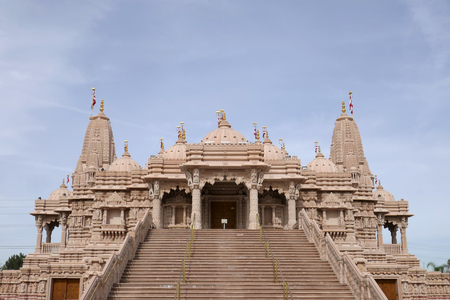Temple: (26, 94, 416, 260)
